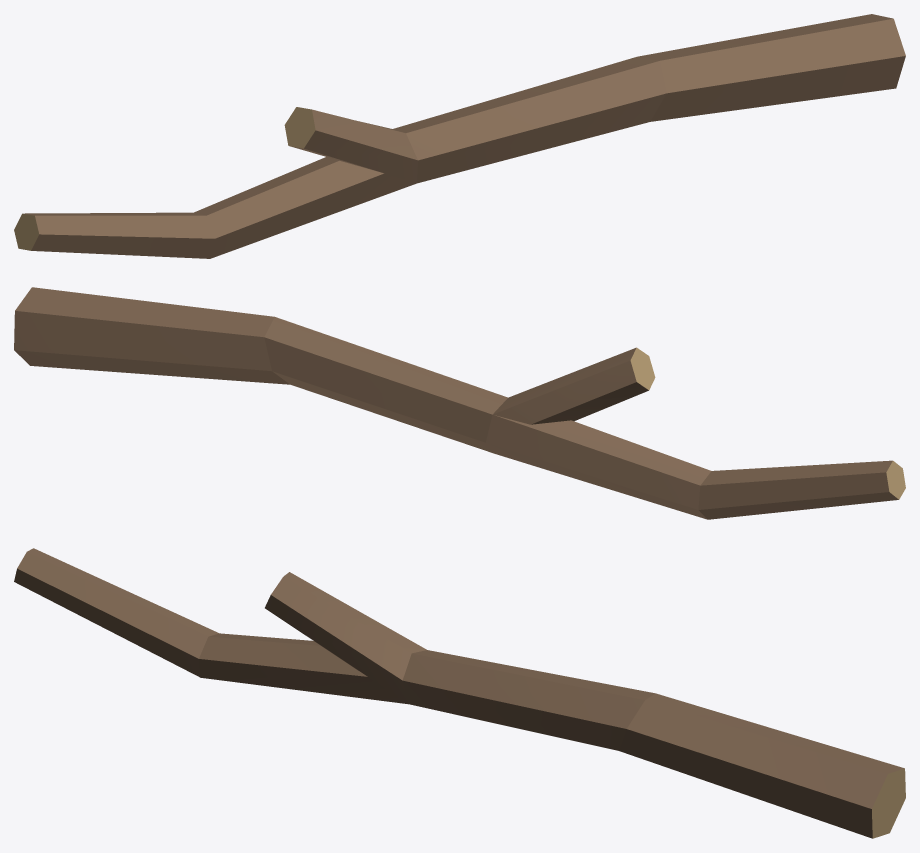
Rendered from Hilly_Prop_Branch_3.obj.
The picture shows the model from 3 angles, top to bottom: view 1: azimuth 30°, elevation 25°; view 2: azimuth 150°, elevation 25°; view 3: azimuth 330°, elevation 25°; orthographic projection. The views are drawn at different scales.
Visible parts, largest first — view 1: object1; view 2: object1; view 3: object1.
Boxes of the visible parts, <box> form: object1: <box>14,14,905,258</box>; object1: <box>14,287,905,519</box>; object1: <box>14,548,905,838</box>.
Size of the model in its own units: 1.92 by 0.2937 by 0.2.
